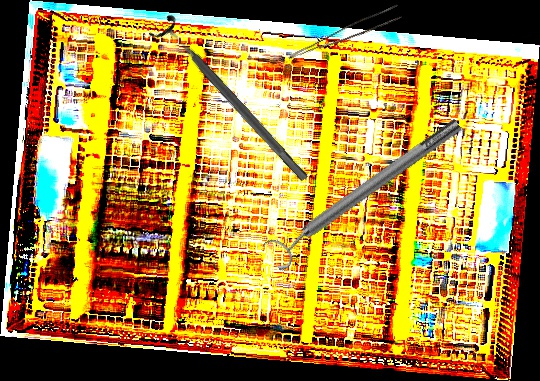Fixation Ring: (260, 110, 470, 273), (147, 11, 318, 191)
Tissue Forceps: (287, 1, 404, 72)
